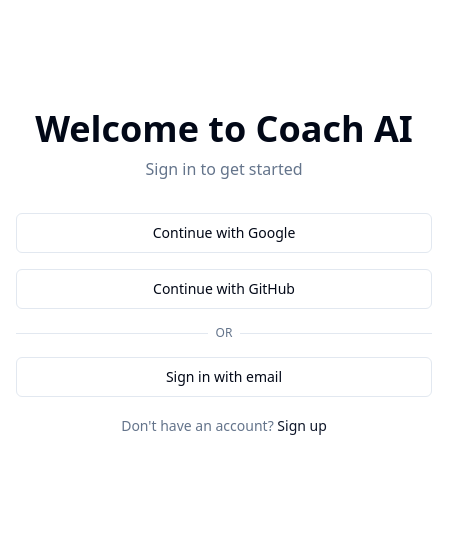
Authentication Flows › Email/Password Login › [AUTH-E2E-09] User can navigate from login to register page
The width and height of the screenshot is (449, 540).
Click the link "Sign up".
click(302, 426)  # box 277,416 -> 327,435
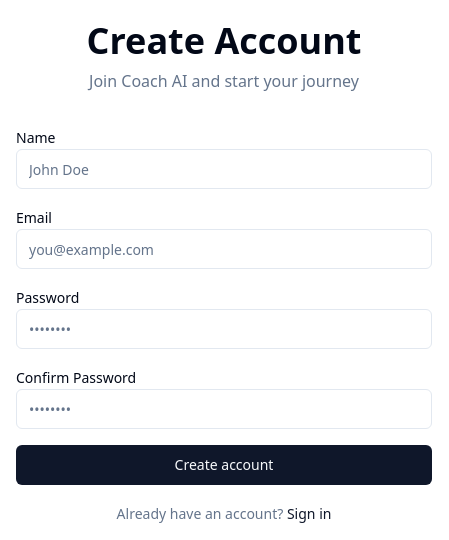
Expected: the heading "Create Account" is shown, 86,16 -> 361,65
